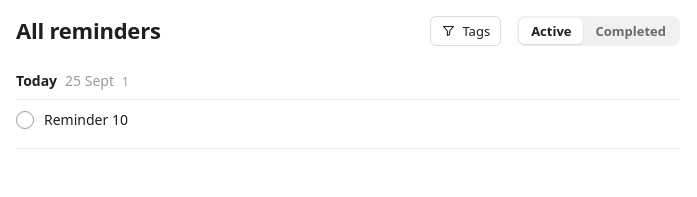
AllRemindersView › shows an empty state when nothing is completed
Click the tab "Completed" at coordinates (631, 31), box [584,18,678,44]
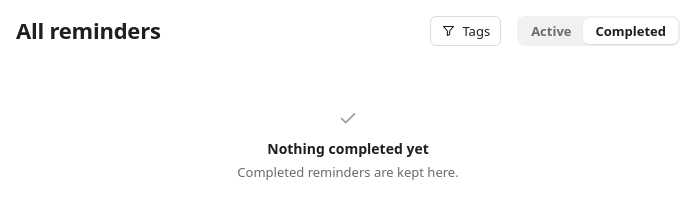
Result: the text "Nothing completed yet" is shown at [267,139,429,159]
